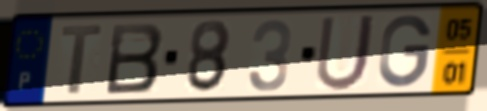3: (247, 16, 294, 93)
8: (183, 17, 233, 95)
B: (103, 21, 167, 97)
G: (376, 12, 435, 90)
T: (59, 23, 105, 98)
U: (313, 11, 380, 94)
